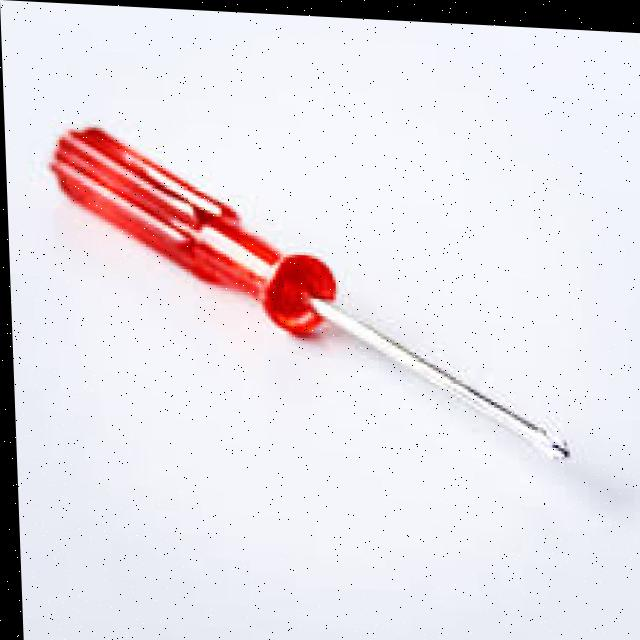Screwdriver: (50, 126, 561, 453)
